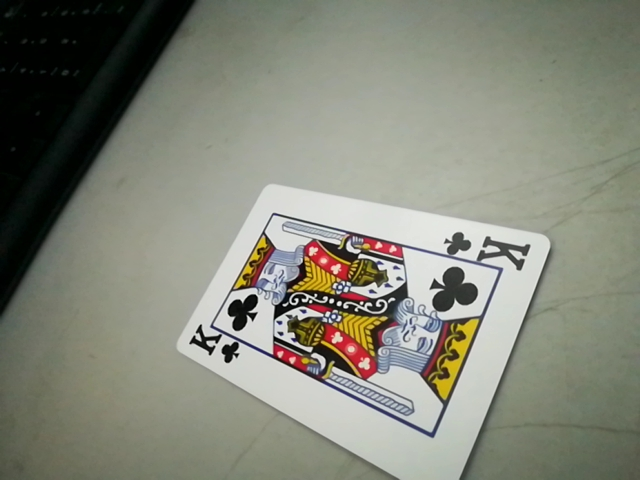mh k: (435, 229, 539, 267), (183, 328, 248, 366)
